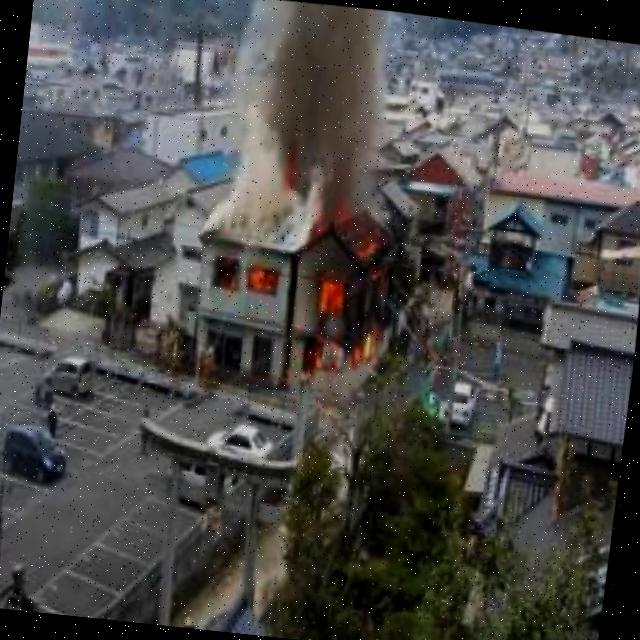fire: (300, 232, 396, 367), (240, 263, 284, 305)
